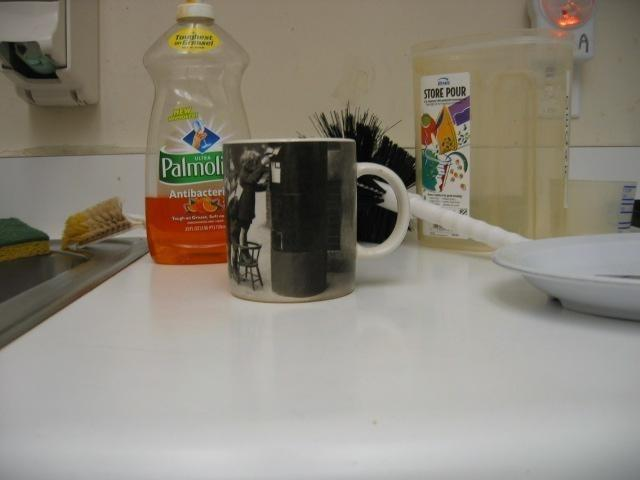cup-handle: (219, 137, 410, 305)
